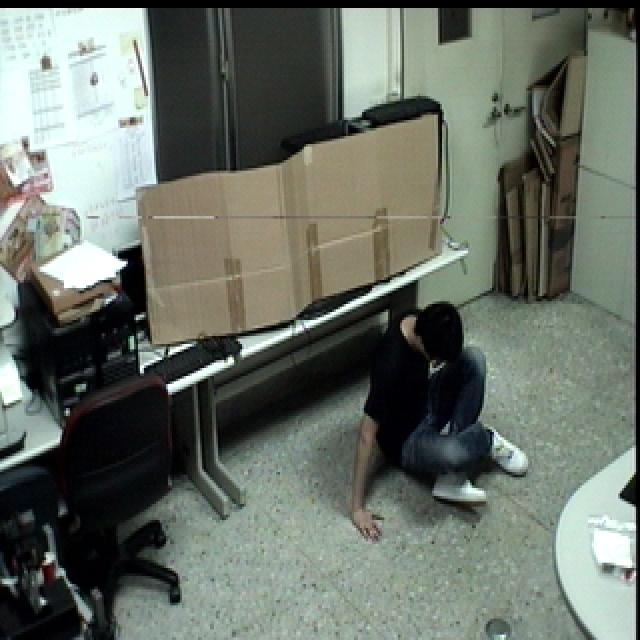sit: (343, 285, 532, 550)
